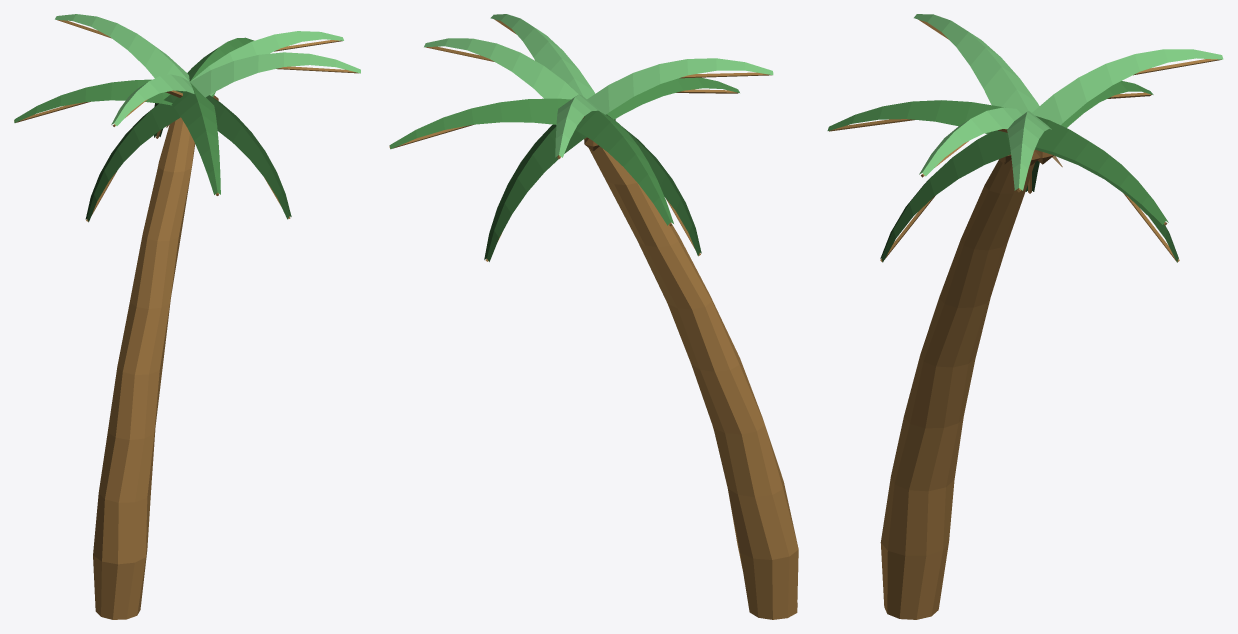
Rendered from PalmLean.fbx.
3 views of the same model, side by side, from view 1: azimuth 30°, elevation 25°; view 2: azimuth 150°, elevation 25°; view 3: azimuth 270°, elevation 25° (orthographic). The views are drawn at different scales.
Visible parts, largest first — view 1: PalmLean; view 2: PalmLean; view 3: PalmLean.
Part boxes in pixels (x1,y1,x2,y2): PalmLean: (14,14,360,619); PalmLean: (389,14,798,619); PalmLean: (827,14,1223,619).
Bounding box in the file's own units: 356 × 587 × 346.
